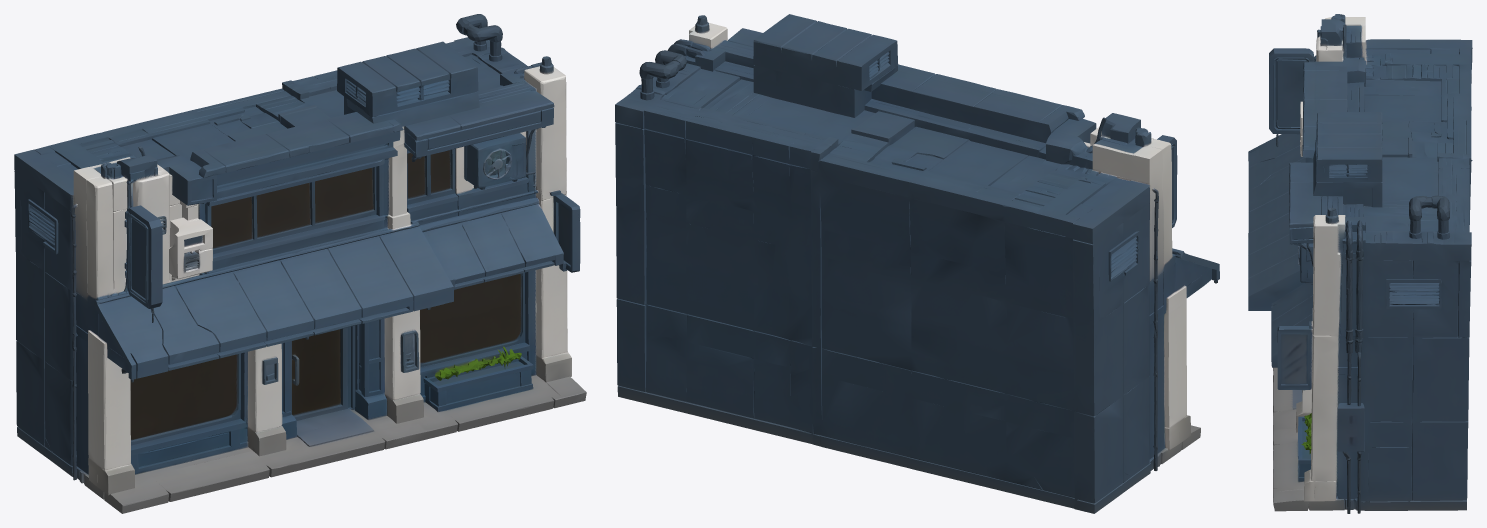
File: source.glb
The picture shows the model from 3 angles, left to right: view 1: azimuth 30°, elevation 25°; view 2: azimuth 150°, elevation 25°; view 3: azimuth 270°, elevation 25°; orthographic projection. The views are drawn at different scales.
Parts seen in each view (by area): view 1: model; view 2: model; view 3: model.
Boxes of the visible parts, box(x1,y1,x2,y2) form: model: box(14, 14, 586, 513); model: box(615, 14, 1219, 513); model: box(1248, 14, 1472, 513).
Size of the model in its own units: 1.89 by 1.26 by 0.8172.
1 material, 1 textured.
